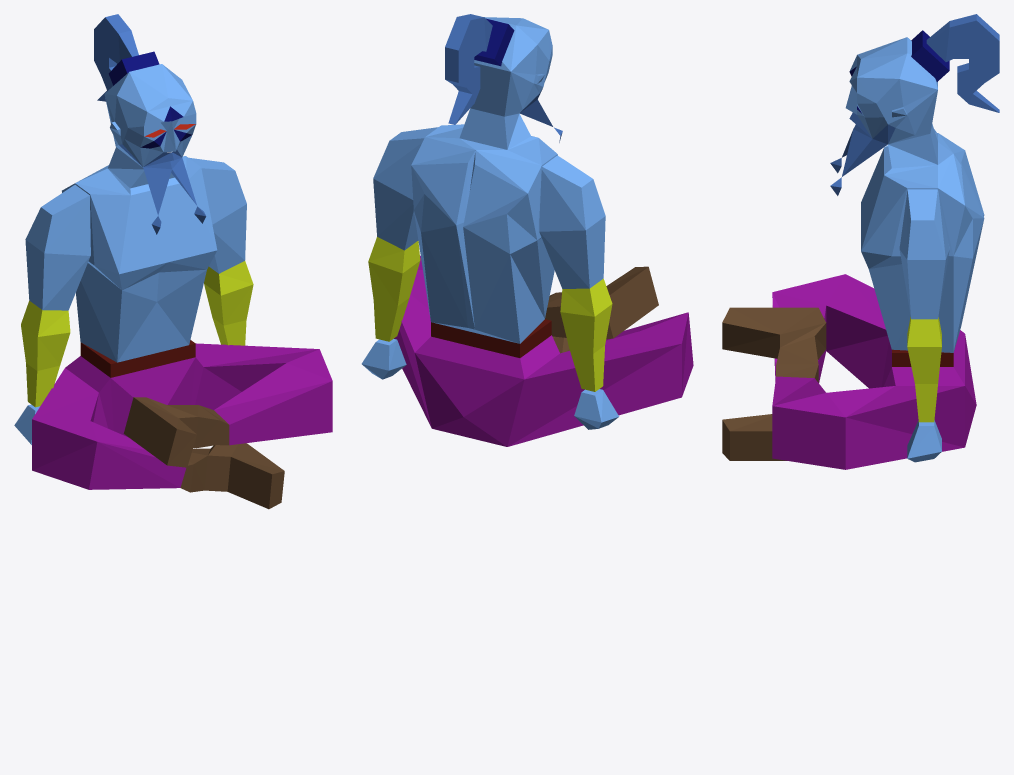
Rendered from genie.glb.
3 views of the same model, side by side, from view 1: azimuth 30°, elevation 25°; view 2: azimuth 150°, elevation 25°; view 3: azimuth 270°, elevation 25° (orthographic). The views are drawn at different scales.
Bounding box in the file's own units: 88 × 210 × 72.
Materials: 1 (1 with a texture image).
